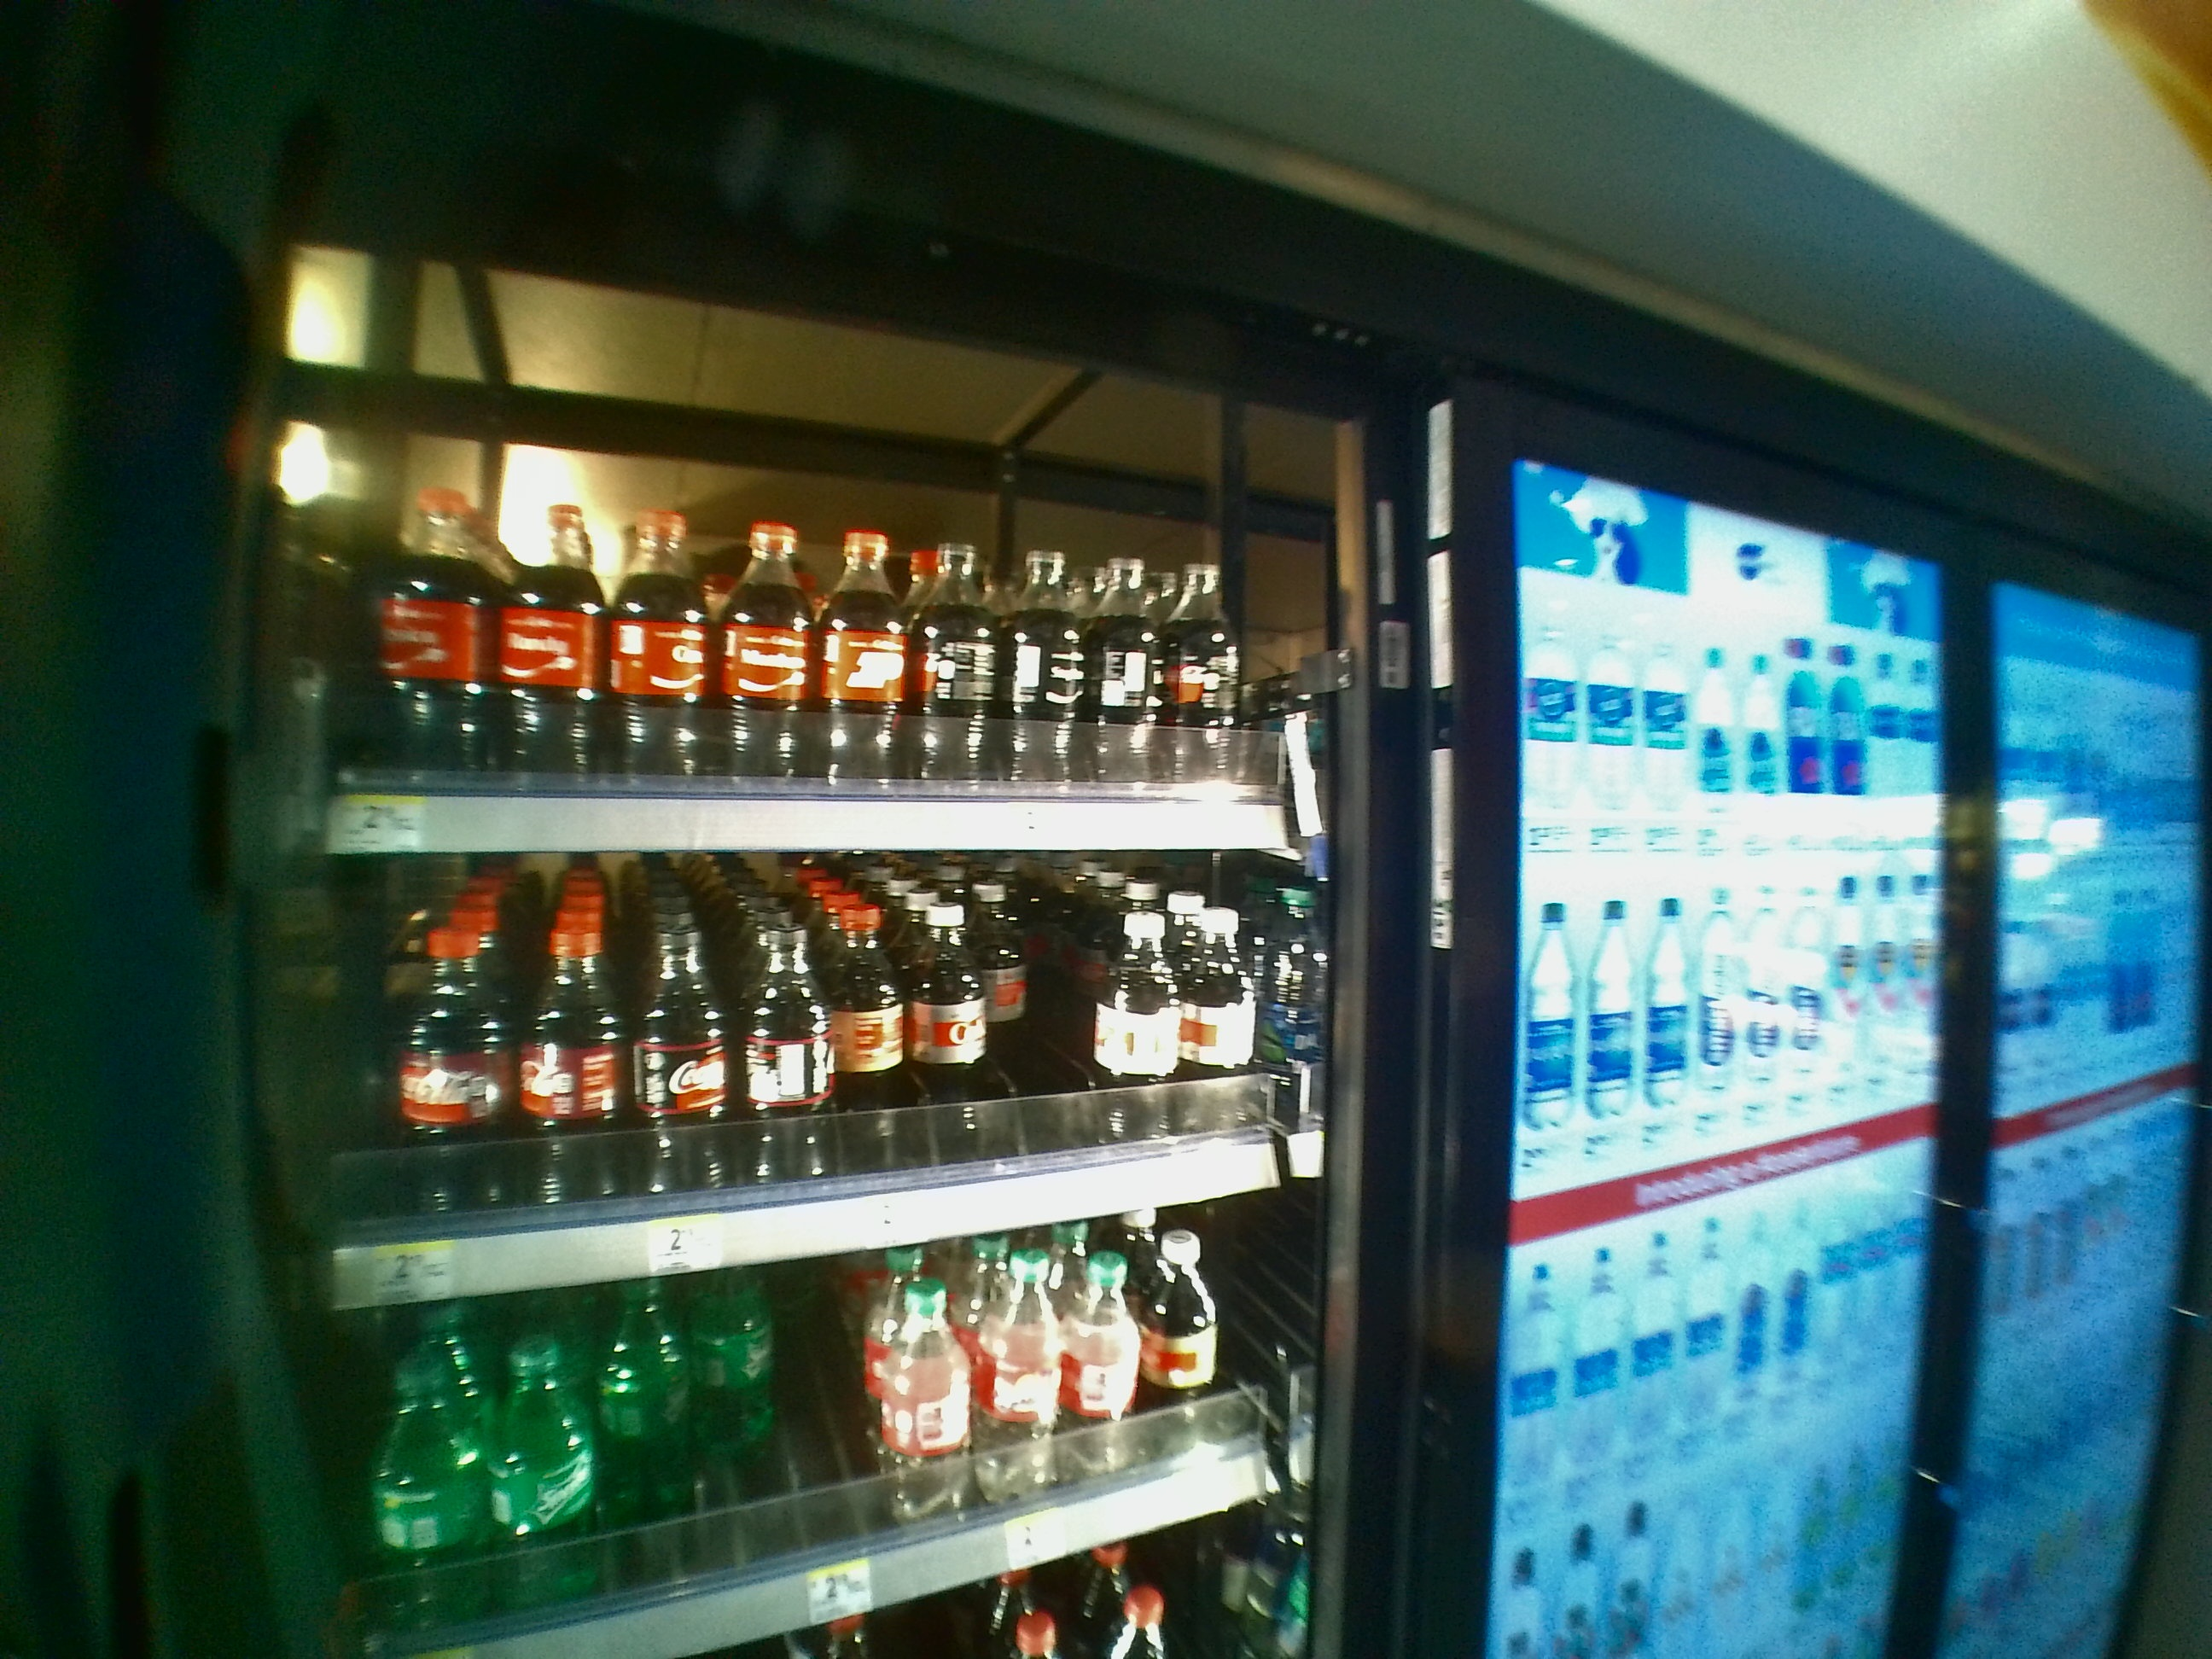shelf: (315, 399, 1310, 861), (324, 863, 1294, 1234)
